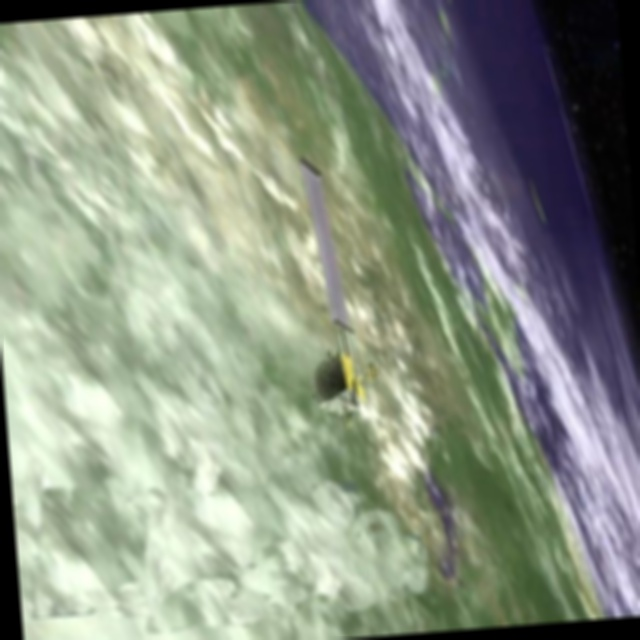satellite: (269, 128, 402, 447)
